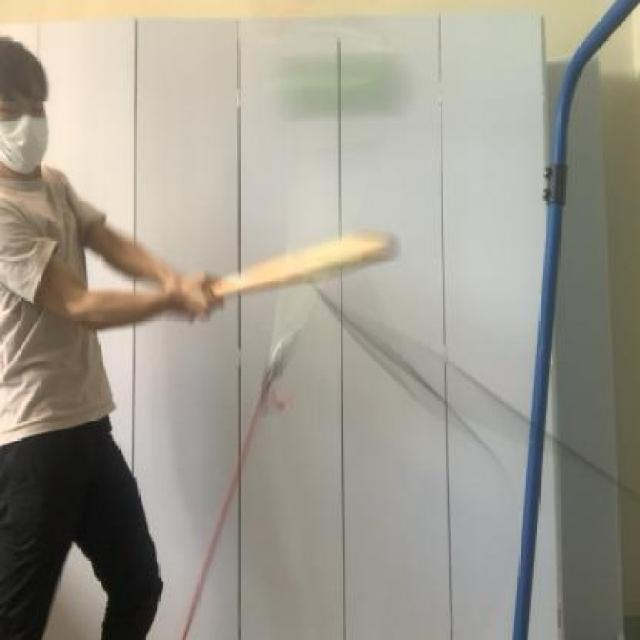baseball: (275, 32, 419, 145)
